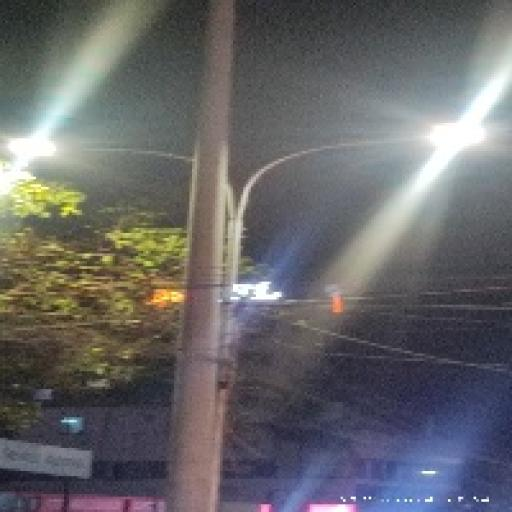Working: (418, 112, 499, 154), (2, 129, 72, 172)
